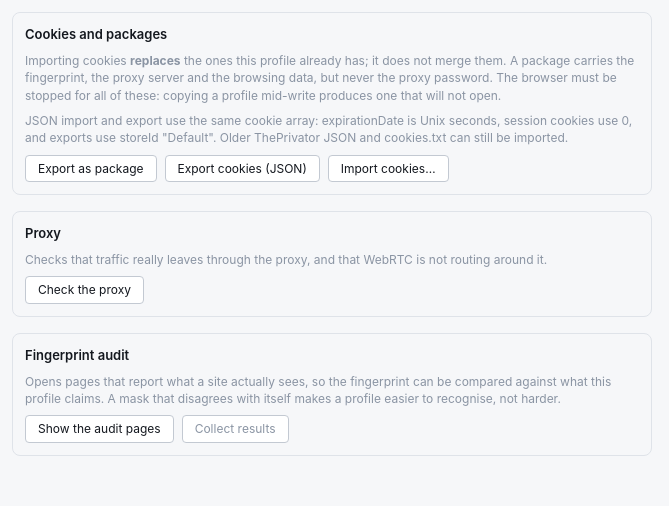
ProfileTools › exports a package and repeats that the password did not travel
Step 1. Click the button "Export as package" → click(91, 168), box [25, 155, 156, 182]
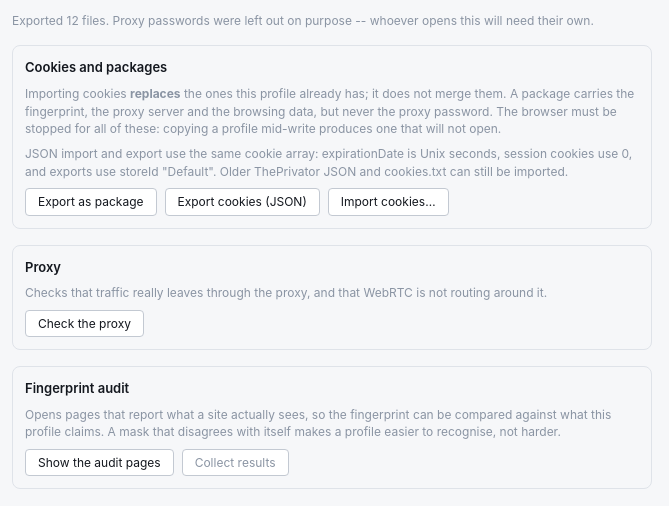
Check: the message shows "Proxy passwords were left out", box [12, 13, 594, 28]
